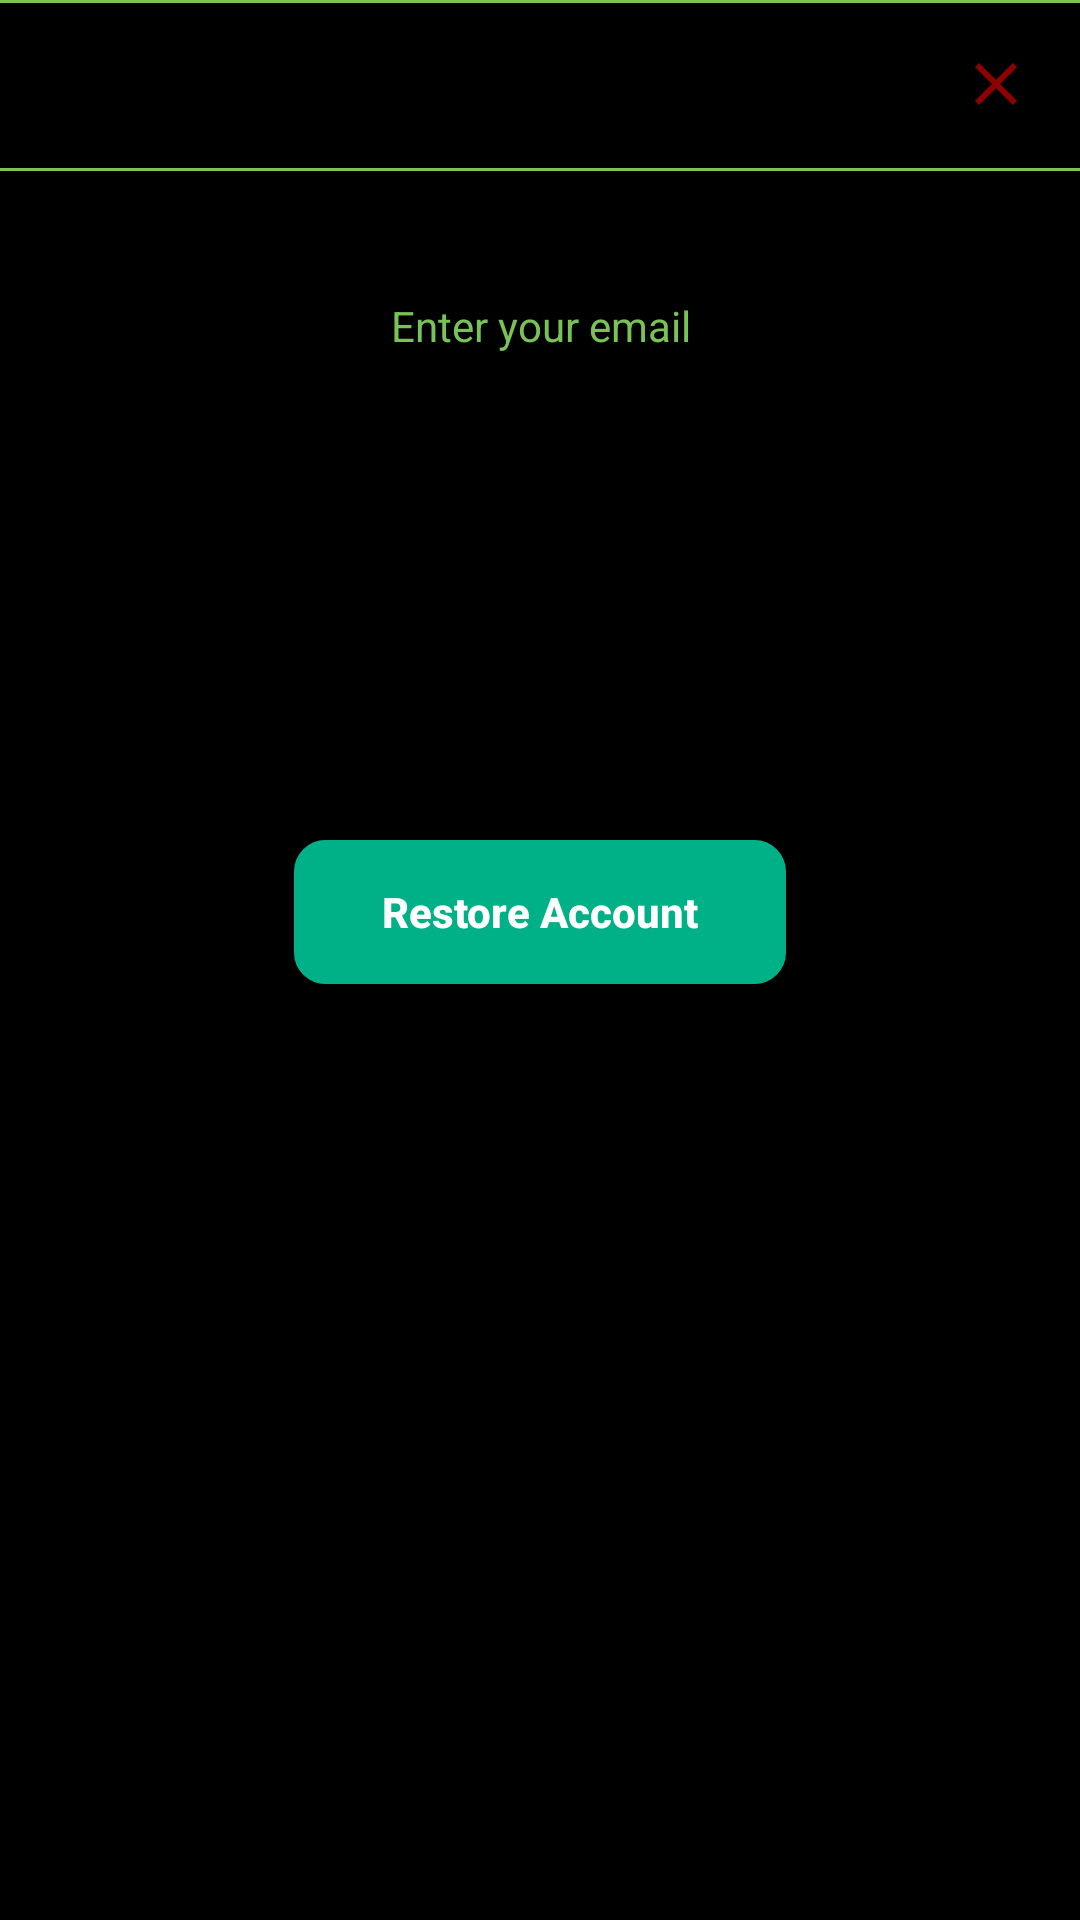

Locate icon controls on the screen. Image size 1080px x 1920px, boxes as [x1=x1, y1=y1, x2=x2, y2=y2].
Close: [x1=975, y1=63, x2=1017, y2=105]
